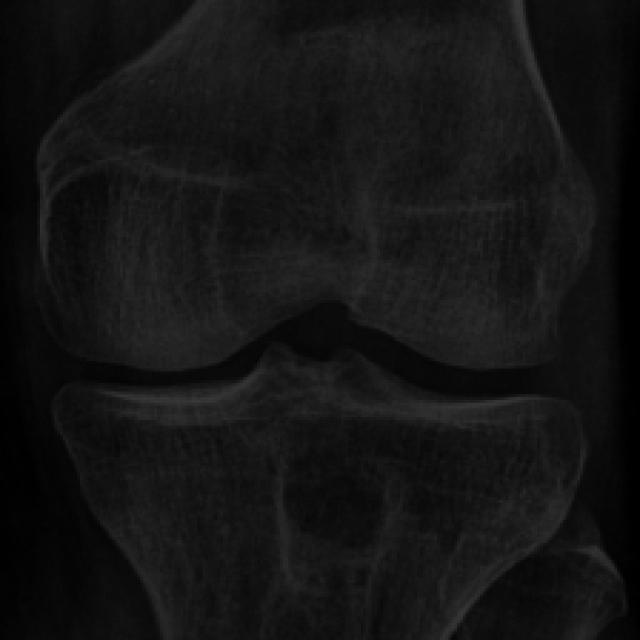femur: (31, 1, 598, 373)
tibia: (52, 343, 588, 640)
